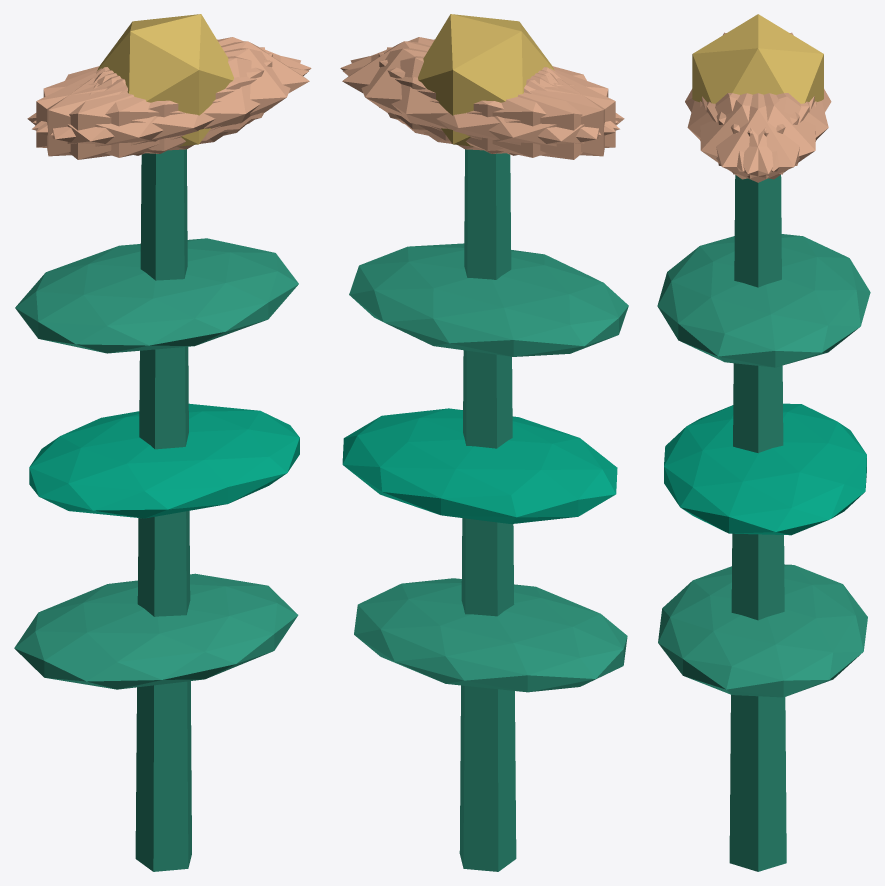
The model's file is litsea-glutinosa.glb.
3 views of the same model, side by side, from view 1: azimuth 30°, elevation 25°; view 2: azimuth 150°, elevation 25°; view 3: azimuth 270°, elevation 25° (orthographic).
Visible parts, largest first — view 1: stem, leaf2, leaf0, leaf1, center, petal1, petal6, petal2, petal5, petal7, petal0, petal4 (+2 smaller); view 2: stem, leaf1, leaf2, leaf0, center, petal8, petal3, petal7, petal4, petal2, petal0, petal5 (+2 smaller); view 3: stem, leaf2, leaf1, leaf0, center, petal0, petal5, petal4, petal1, petal8.
Part boxes in pixels (left/top/right/bottom): stem: left=135, top=149, right=191, bottom=871; leaf2: left=15, top=238, right=298, bottom=353; leaf0: left=14, top=573, right=298, bottom=689; leaf1: left=29, top=403, right=299, bottom=518; center: left=97, top=14, right=233, bottom=146; petal1: left=32, top=56, right=308, bottom=157; petal6: left=27, top=68, right=227, bottom=159; petal2: left=47, top=47, right=264, bottom=156; petal5: left=50, top=48, right=300, bottom=150; petal7: left=36, top=53, right=272, bottom=153; petal0: left=97, top=41, right=309, bottom=141; petal4: left=33, top=37, right=311, bottom=132; stem: left=459, top=149, right=516, bottom=871; leaf1: left=342, top=408, right=617, bottom=523; leaf2: left=349, top=243, right=628, bottom=356; leaf0: left=354, top=578, right=627, bottom=692; center: left=418, top=14, right=554, bottom=146; petal8: left=343, top=56, right=619, bottom=157; petal3: left=424, top=68, right=624, bottom=159; petal7: left=386, top=47, right=604, bottom=156; petal4: left=350, top=48, right=600, bottom=150; petal2: left=378, top=53, right=615, bottom=153; petal0: left=342, top=41, right=554, bottom=140; petal5: left=340, top=37, right=618, bottom=132; stem: left=729, top=175, right=786, bottom=871; leaf2: left=657, top=234, right=870, bottom=367; leaf1: left=664, top=403, right=866, bottom=535; leaf0: left=658, top=564, right=867, bottom=697; center: left=692, top=14, right=823, bottom=103; petal0: left=702, top=93, right=814, bottom=182; petal5: left=700, top=93, right=809, bottom=179; petal4: left=706, top=93, right=816, bottom=179; petal1: left=687, top=93, right=799, bottom=171; petal8: left=716, top=93, right=828, bottom=171.
Size of the model in its own units: 0.1452 by 0.4259 by 0.0994.
